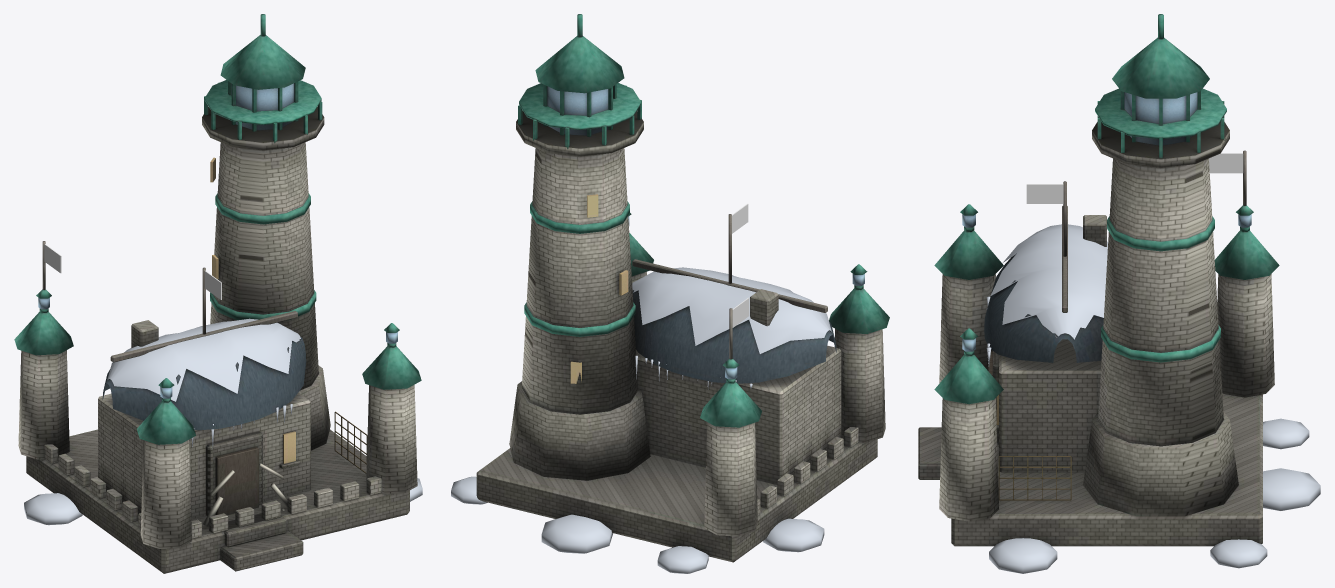
Rendered from salz_hq.glb.
3 renders of one model, left to right at view 1: azimuth 30°, elevation 25°; view 2: azimuth 150°, elevation 25°; view 3: azimuth 270°, elevation 25°, orthographic. The views are drawn at different scales.
Parts seen in each view (by area): view 1: salz_hq, Schnee; view 2: salz_hq, Schnee; view 3: salz_hq, Schnee, Fahne1, Fahne2.
Boxes of the visible parts, x1=… form: salz_hq: x1=14, y1=14, x2=421, y2=573; Schnee: x1=24, y1=318, x2=422, y2=525; salz_hq: x1=476, y1=14, x2=889, y2=562; Schnee: x1=451, y1=267, x2=831, y2=573; salz_hq: x1=918, y1=14, x2=1279, y2=546; Schnee: x1=986, y1=224, x2=1320, y2=573; Fahne1: x1=1026, y1=184, x2=1063, y2=203; Fahne2: x1=1209, y1=153, x2=1243, y2=173.
Bounding box in the file's own units: 7.14 × 9.5 × 6.72.
Materials: 3 (1 with a texture image).
